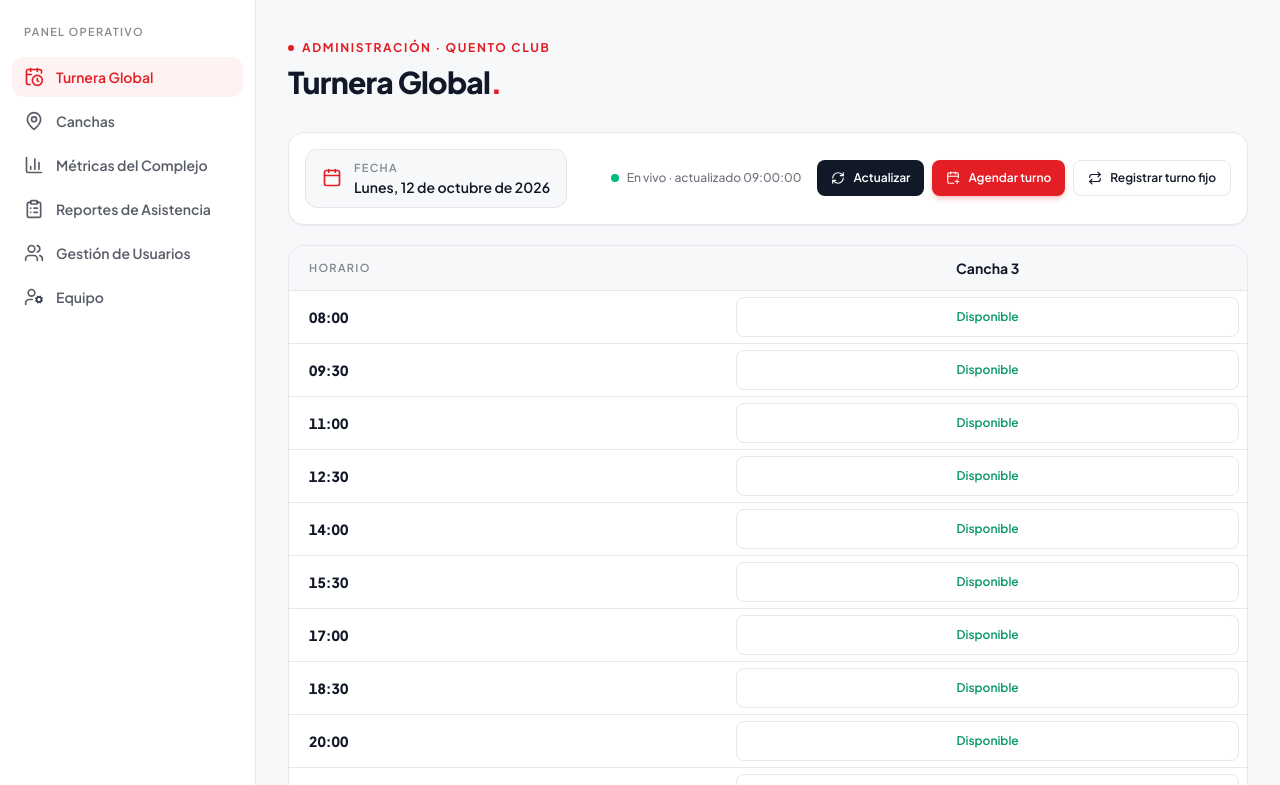
AdminPanel › click en una celda libre de la grilla abre el alta con esa cancha, día y hora
Step 1. Click the button titled "Agendar turno" in the row of "09:30" → (988, 370), box [736, 350, 1239, 390]
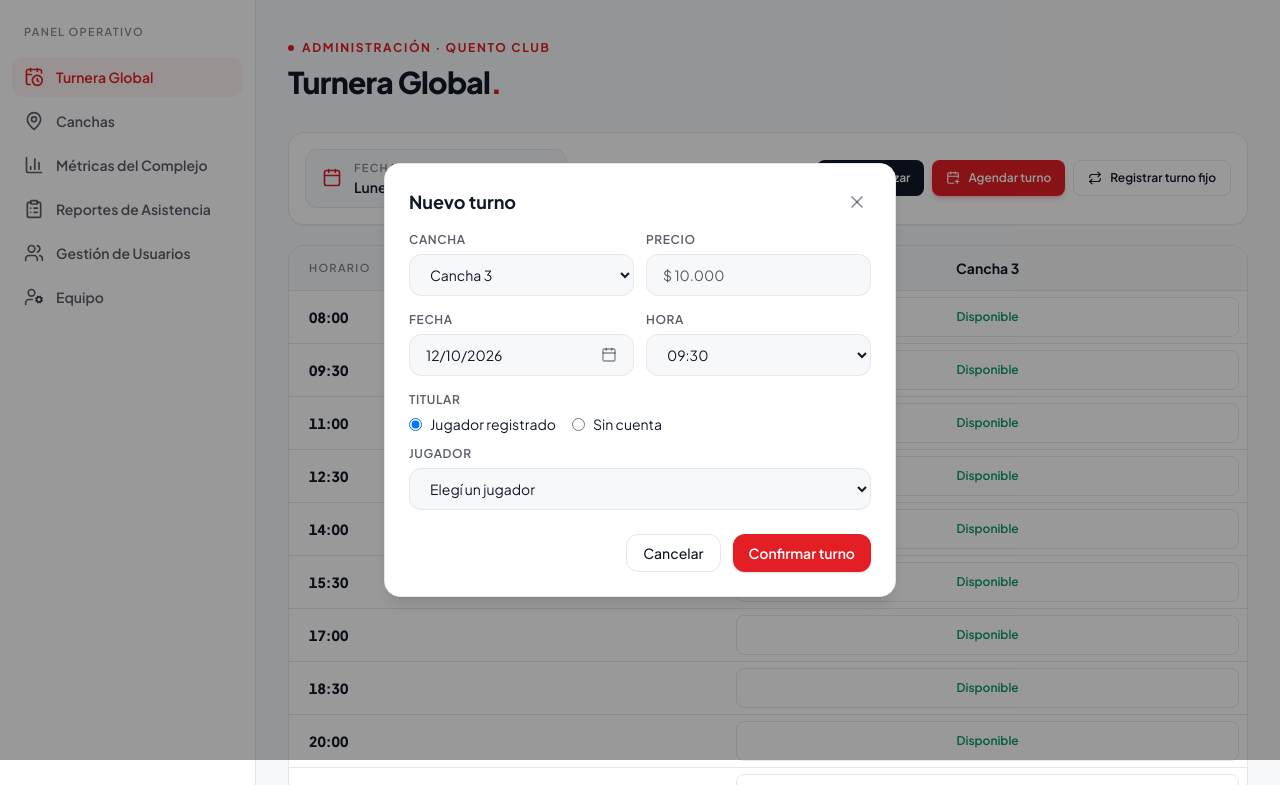
Check: the heading "Nuevo turno" is shown, box [409, 188, 516, 216]
Check: the dropdown labelled "Cancha" shows "Cancha 3", box [409, 254, 634, 296]
Check: the date field labelled "Fecha" holds "2026-10-12", box [409, 312, 453, 327]
